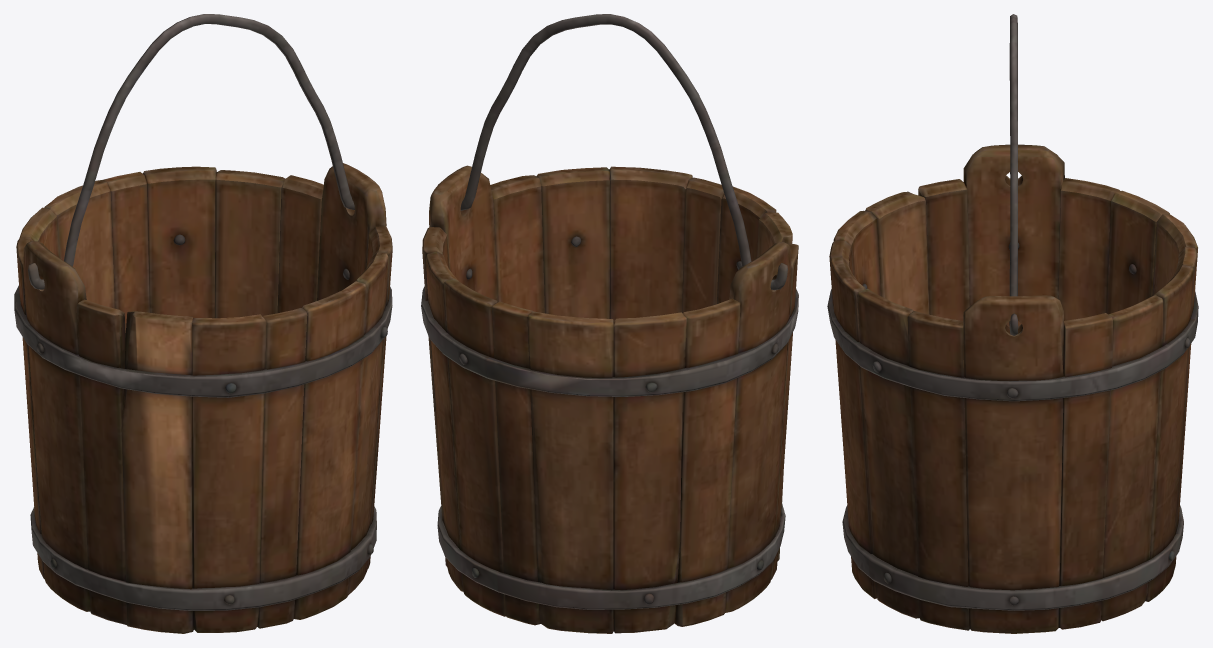
Rendered from wooden_bucket_01.glb.
The picture shows the model from 3 angles, left to right: view 1: azimuth 30°, elevation 25°; view 2: azimuth 150°, elevation 25°; view 3: azimuth 270°, elevation 25°; orthographic projection.
Visible parts, largest first — view 1: wooden_bucket_01; view 2: wooden_bucket_01; view 3: wooden_bucket_01.
Boxes of the visible parts, <box> form: wooden_bucket_01: <box>14,14,392,633</box>; wooden_bucket_01: <box>421,14,798,633</box>; wooden_bucket_01: <box>827,14,1198,633</box>.
Bounding box in the file's own units: 0.367 × 0.5499 × 0.3422.
Materials: 1 (1 with a texture image).
